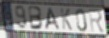0: (75, 8, 88, 33)
9: (15, 5, 28, 30)
A: (45, 7, 61, 31)
B: (28, 6, 45, 32)
K: (59, 7, 73, 32)
R: (88, 8, 105, 33)
